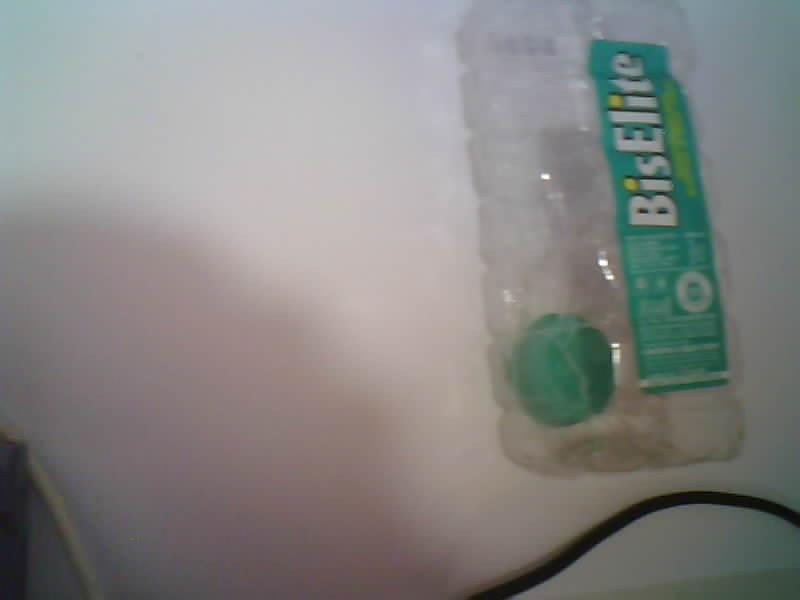non-biodegradable: (459, 0, 742, 474)
